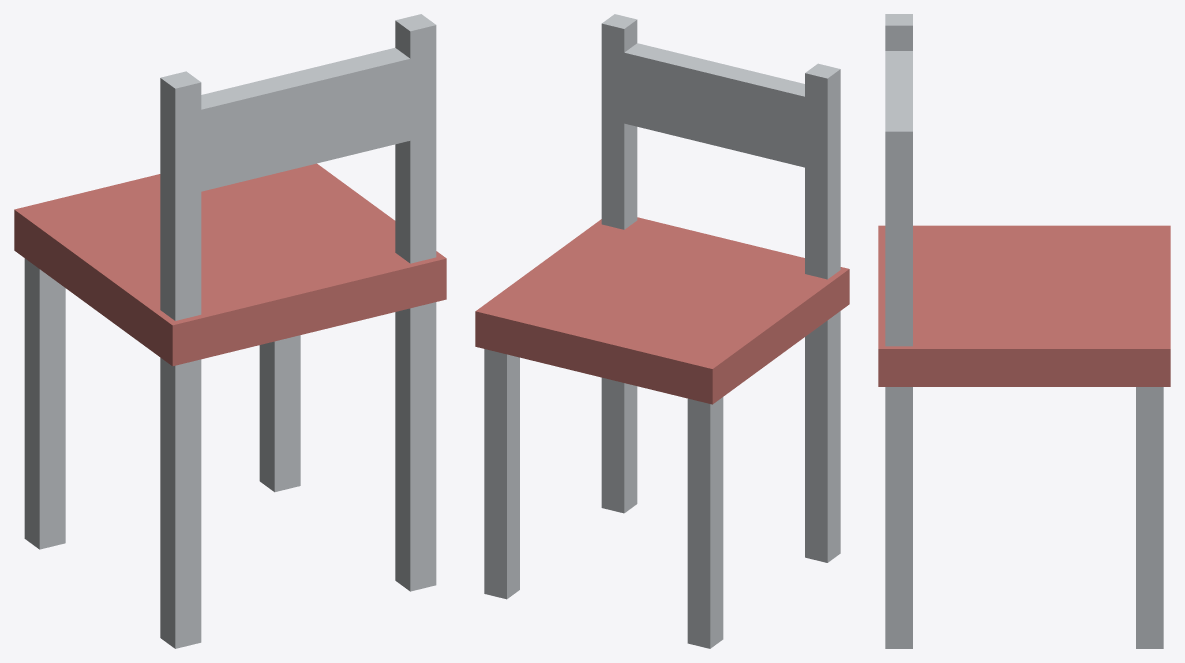
Rendered from chair.glb.
3 views of the same model, side by side, from view 1: azimuth 30°, elevation 25°; view 2: azimuth 150°, elevation 25°; view 3: azimuth 270°, elevation 25° (orthographic). The views are drawn at different scales.
Visible parts, largest first — view 1: Chair; view 2: Chair; view 3: Chair.
Boxes of the visible parts, <box> form: Chair: <box>14,14,446,648</box>; Chair: <box>475,14,849,648</box>; Chair: <box>878,14,1170,648</box>.
Size of the model in its own units: 0.42 by 0.82 by 0.42.
